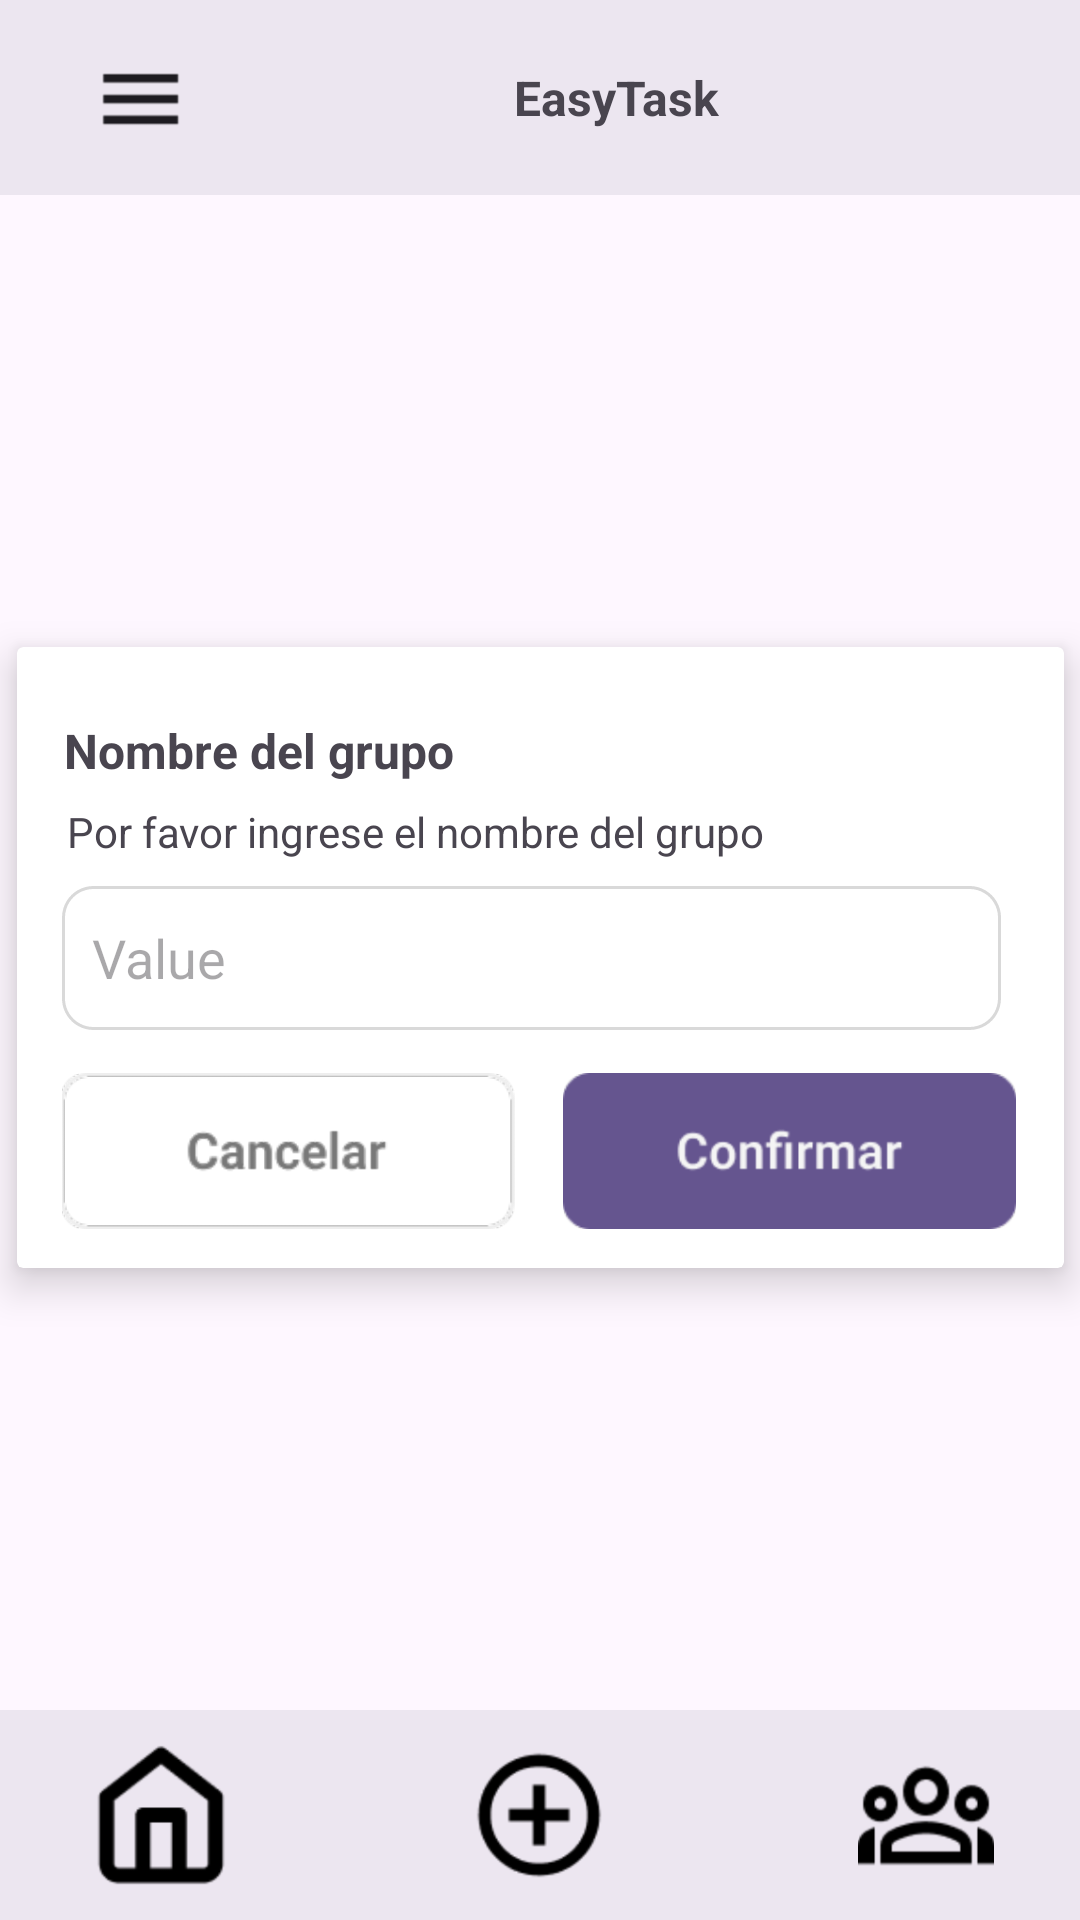

Icon click points for this 1080w x 1920h phone screenshot, format (x=x, y=y):
add: (x=539, y=1815)
groups: (x=926, y=1815)
home: (x=161, y=1815)
menu: (x=140, y=99)
